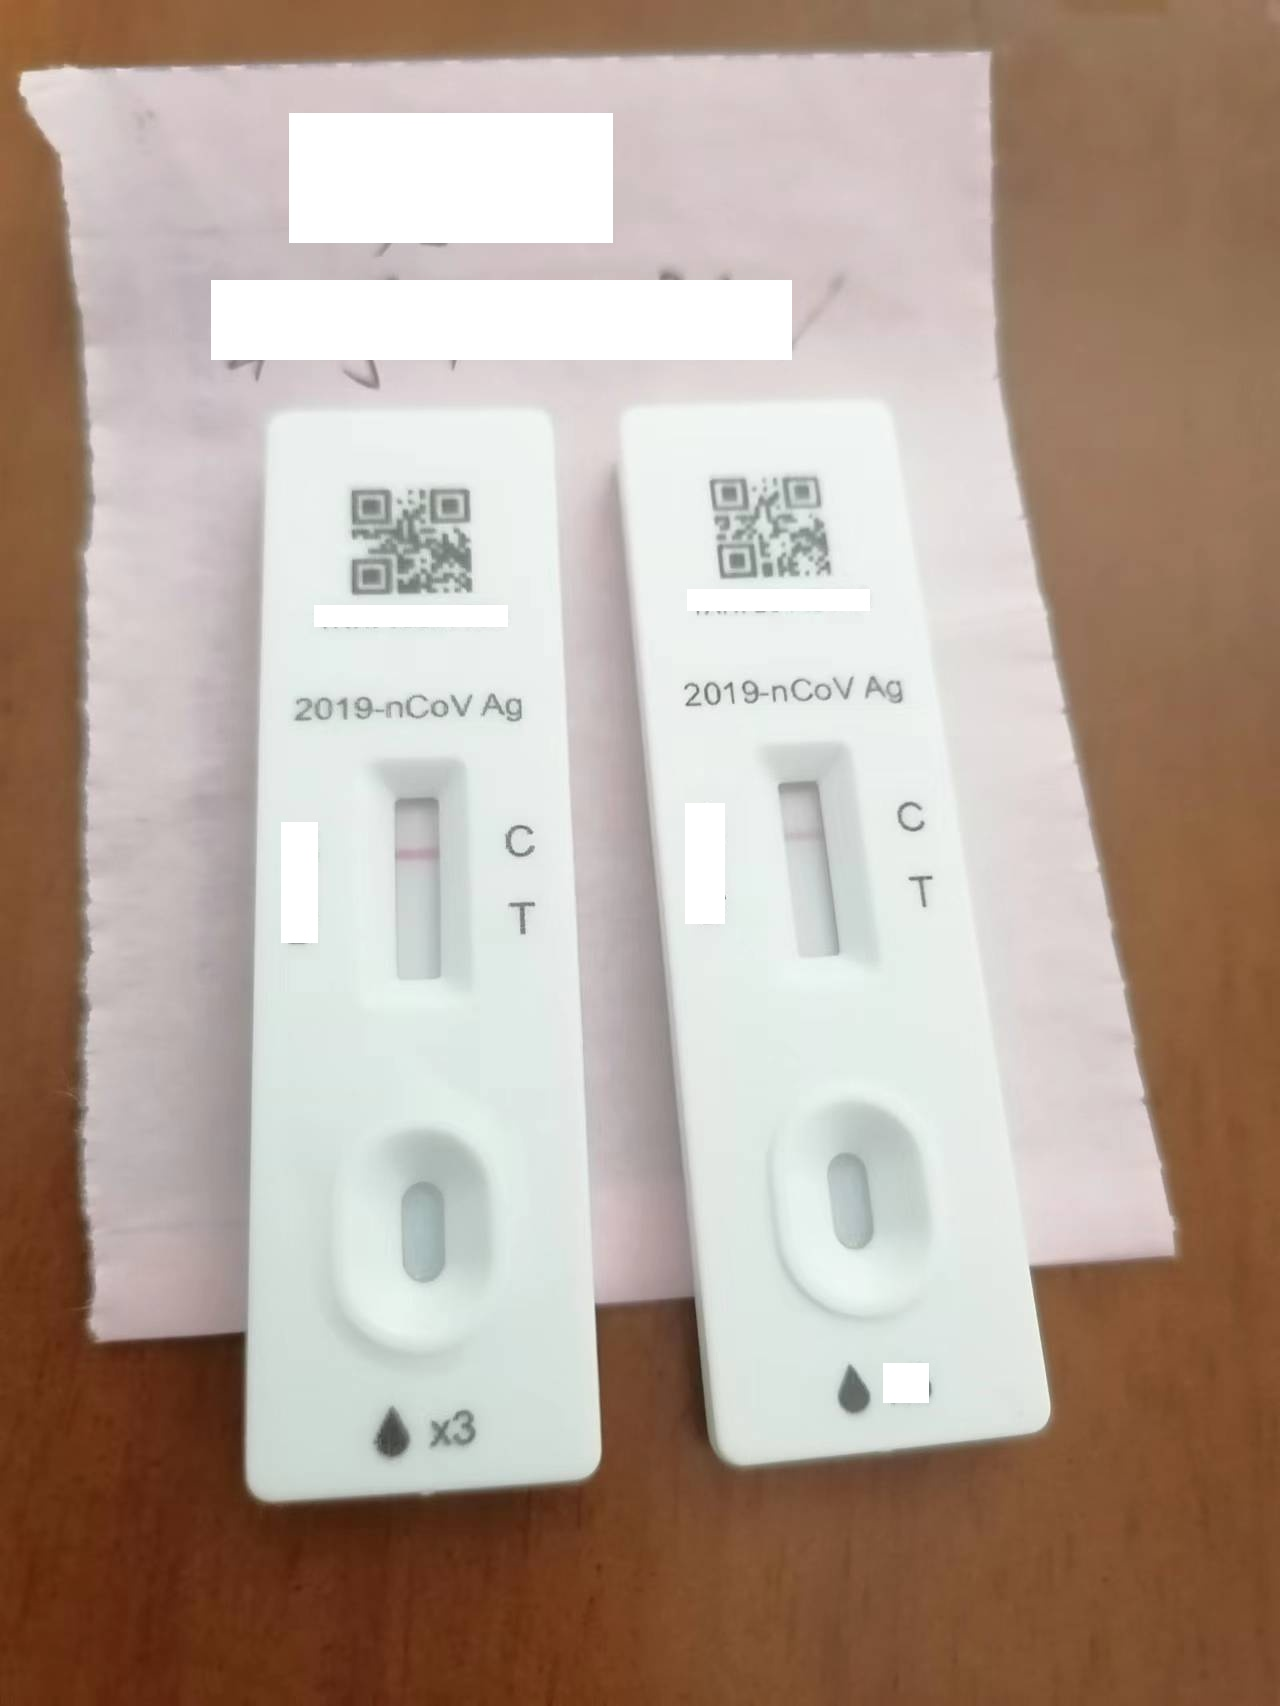negative: (760, 735, 877, 969), (368, 760, 475, 996)
